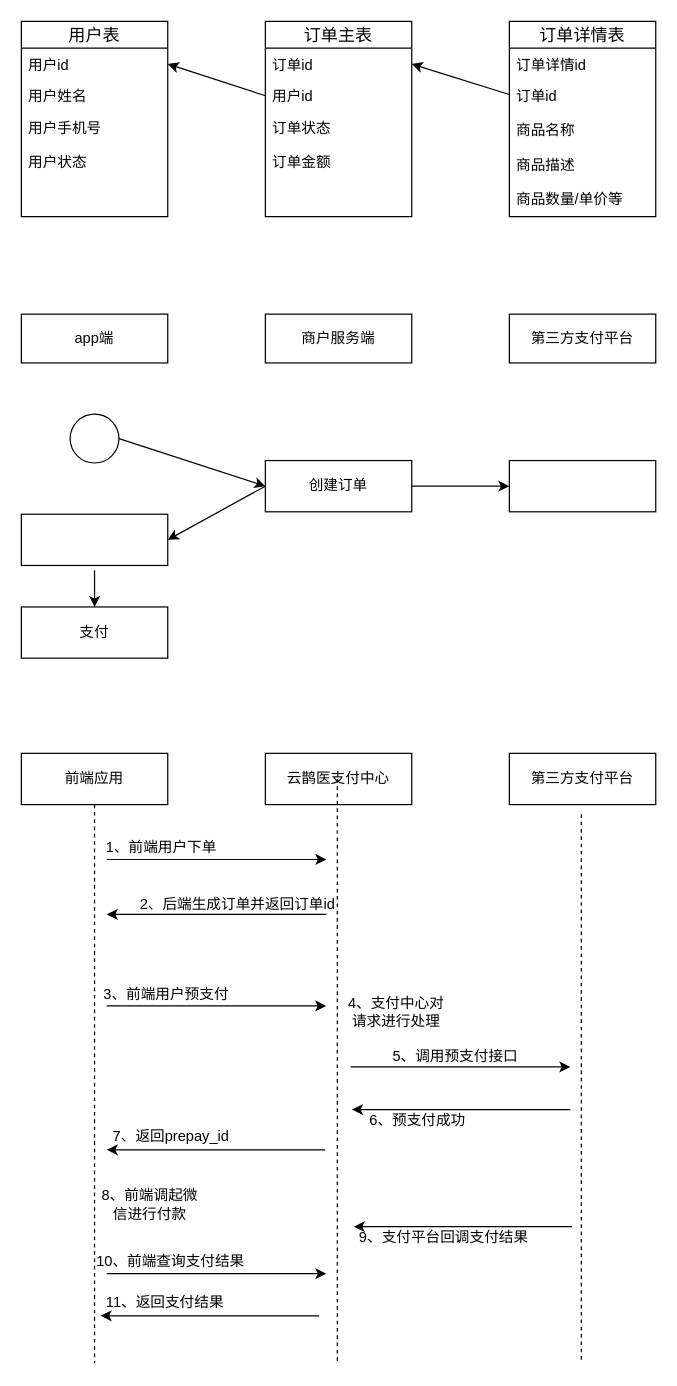
Some shapes in this 677 by 1386 pixel diagram are drawn without their labels. Here are the shapes that lost their labels. From the top down, the centre of each, then its label:
At (x=94, y=438): "点击 下单".
At (x=582, y=485): "预下单".
At (x=94, y=539): "订单详情".
